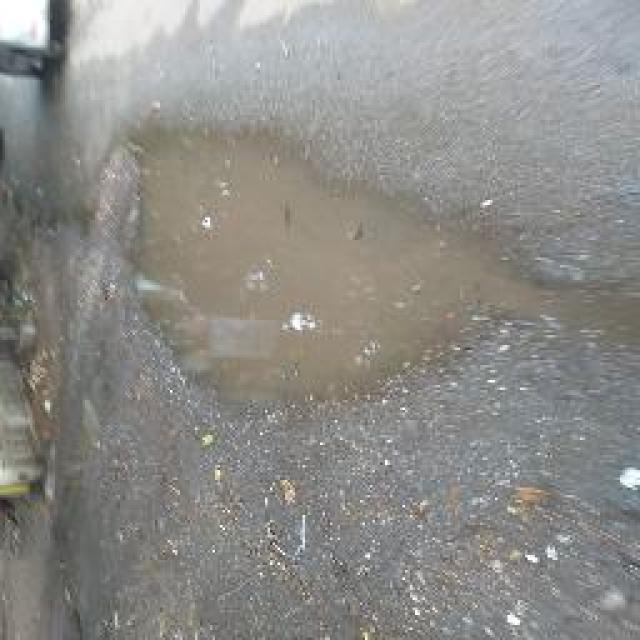stagnation: (120, 126, 637, 432)
